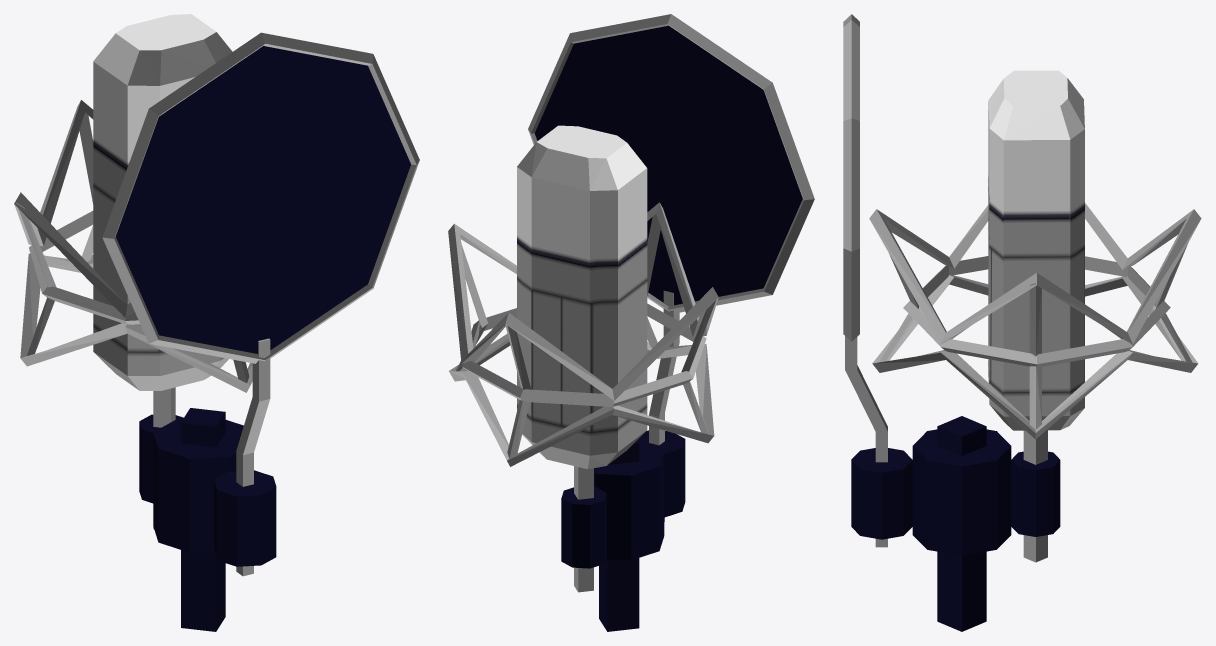
Rendered from SAVE.ICO.obj.
3 views of the same model, side by side, from view 1: azimuth 30°, elevation 25°; view 2: azimuth 150°, elevation 25°; view 3: azimuth 270°, elevation 25° (orthographic). The views are drawn at different scales.
Size of the model in its own units: 2.04 by 3.88 by 2.09.
Materials: 1 (1 with a texture image).
